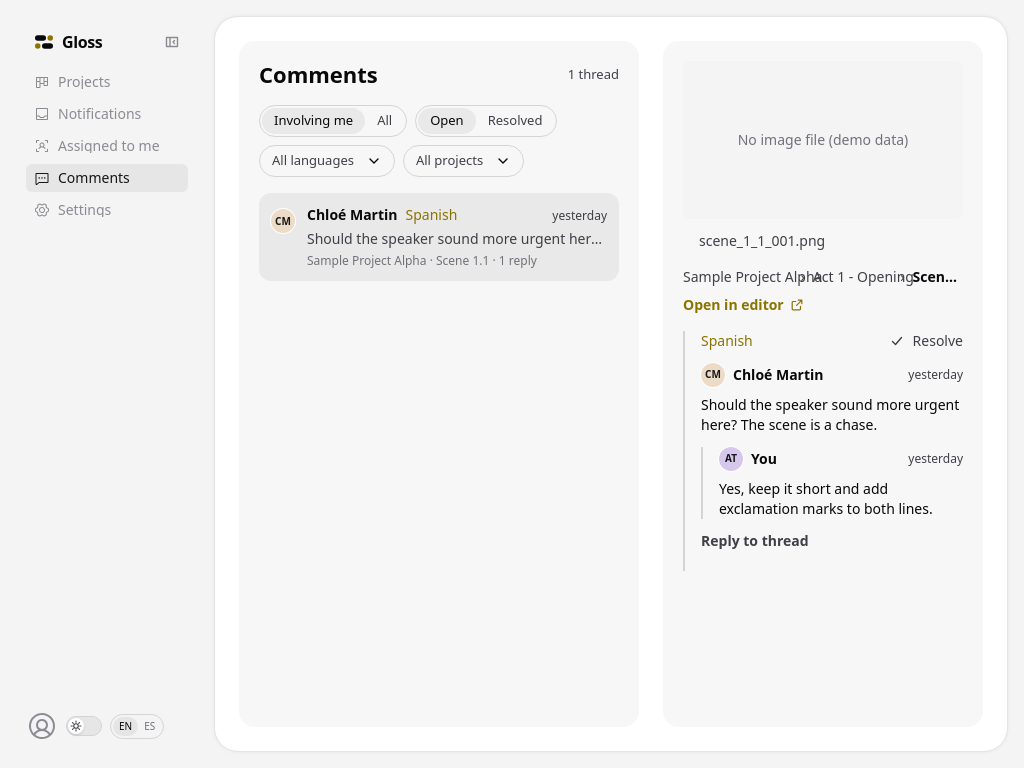
Comments page › replies and resolves from the page
The image size is (1024, 768).
Click the button "Reply to thread" at (755, 540), box [701,530,809,550]
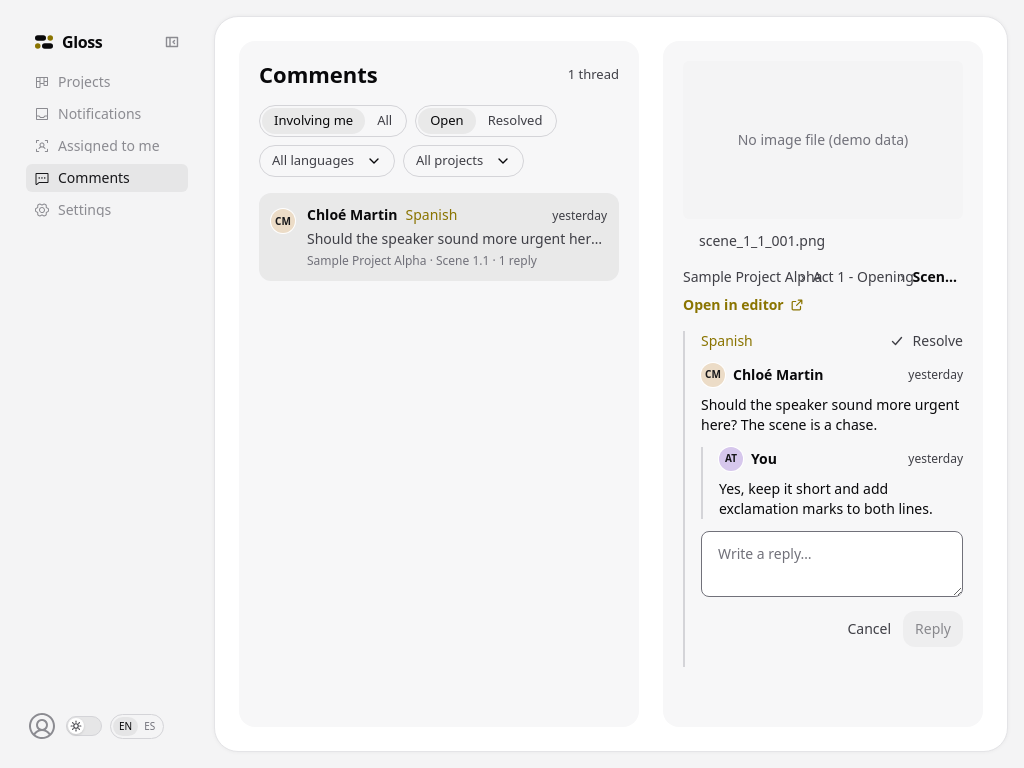
Type "On it." into the dropdown named "Reply to thread" at (832, 564), box [701,530,963,596]
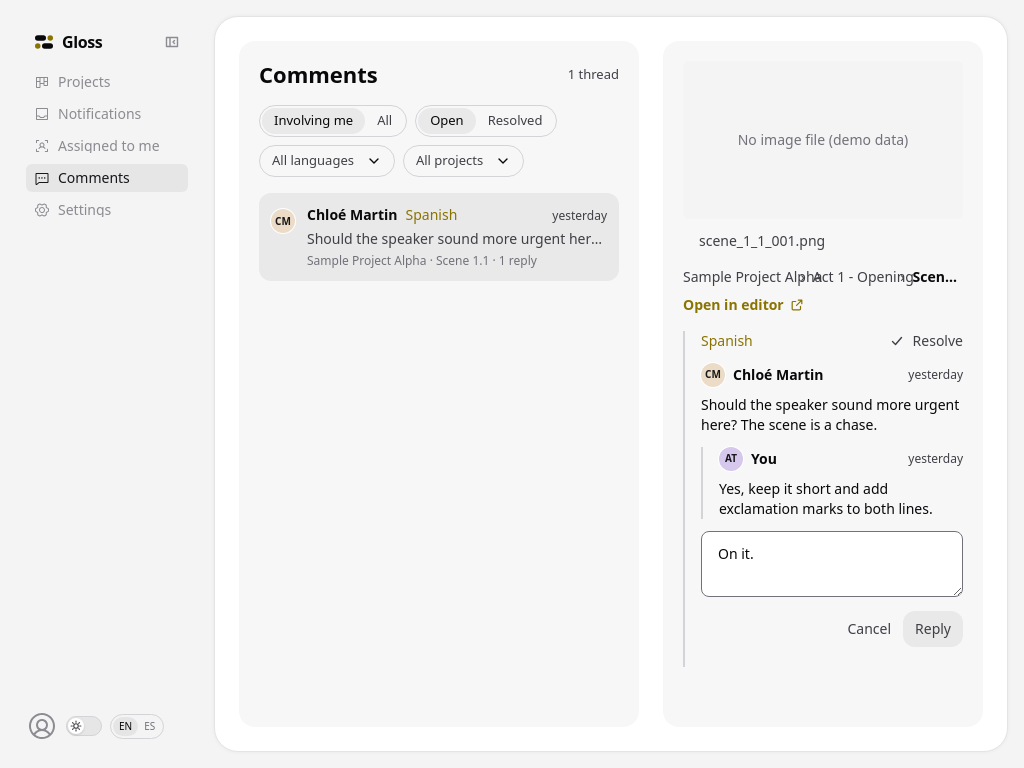
Click the button "Reply" at (933, 628), box [903,610,963,646]
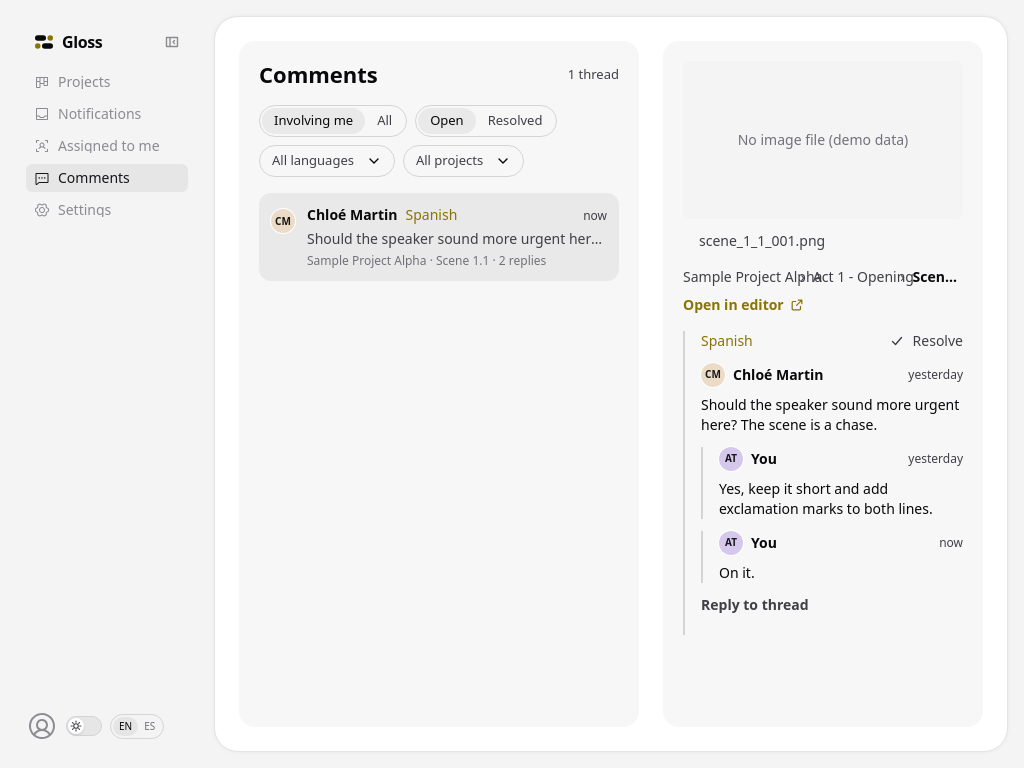
Expected: the text "Sample Project Alpha · Scene 1.1 · 2 replies" is shown, [307,252,546,268]
Click the button "Resolve" at (926, 340), box [889,330,963,350]
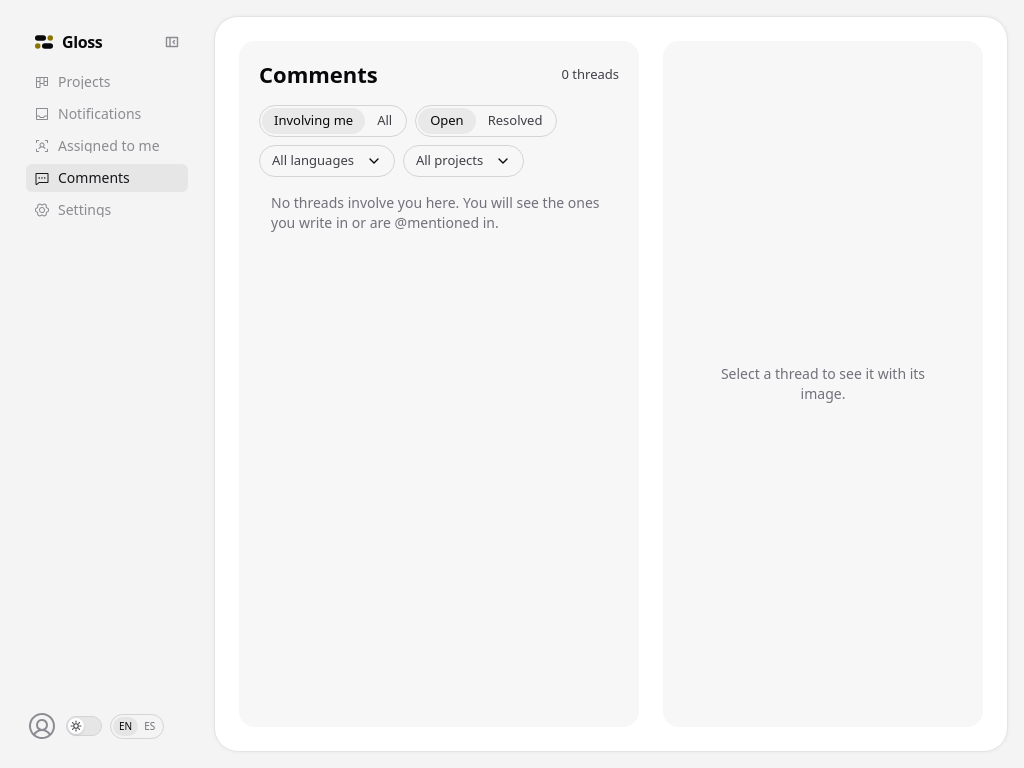
Expected: the text "No threads involve you here" is shown, [271,192,600,232]
